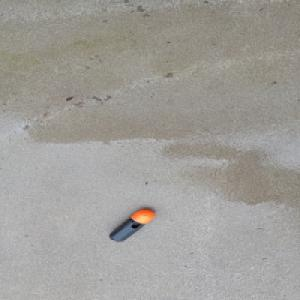PlasticPart: (107, 209, 155, 242)
